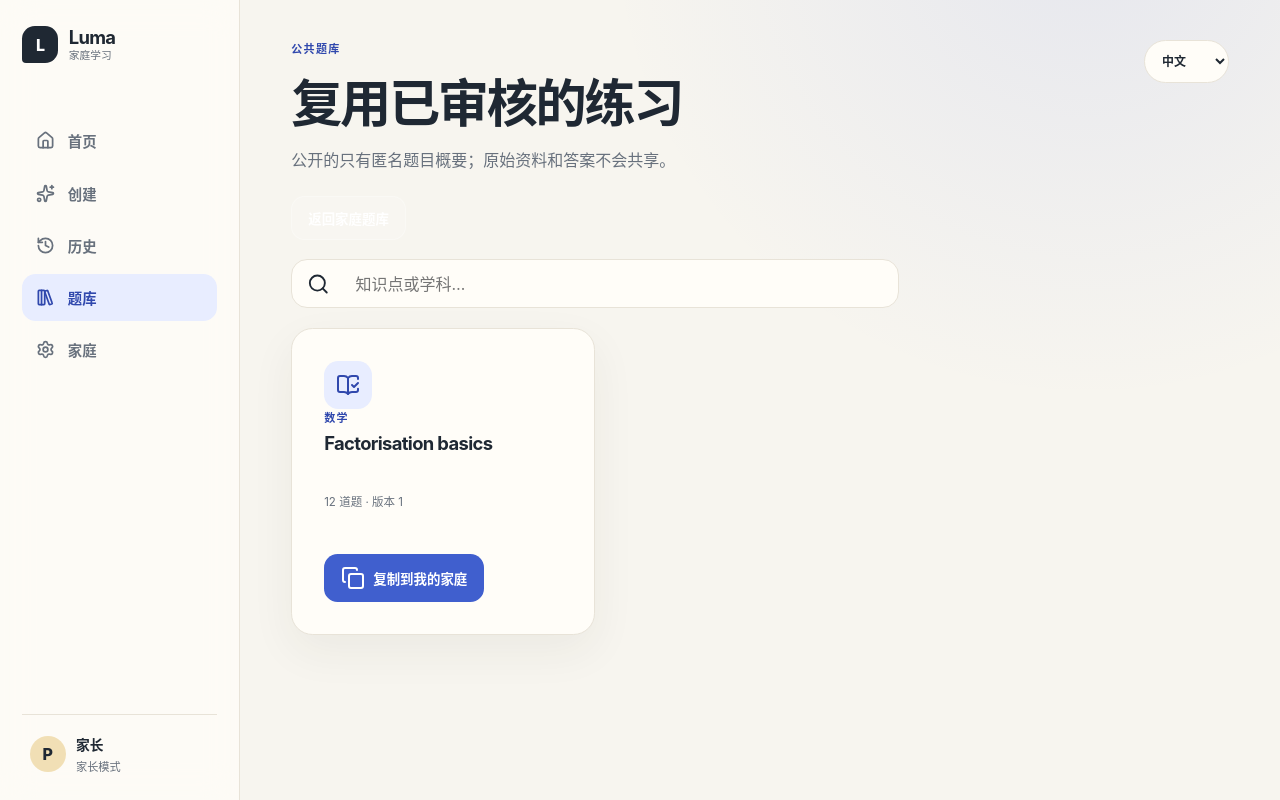
Test: PublicLibraryPage › shows only anonymous metadata and copies an item into the selected family
Check: the heading "Factorisation basics" is shown, box left=324, top=432, right=492, bottom=454
Check: the text "数学" is shown, box left=324, top=410, right=349, bottom=424
Click the button "复制到我的家庭": (404, 578) left=324, top=554, right=484, bottom=602
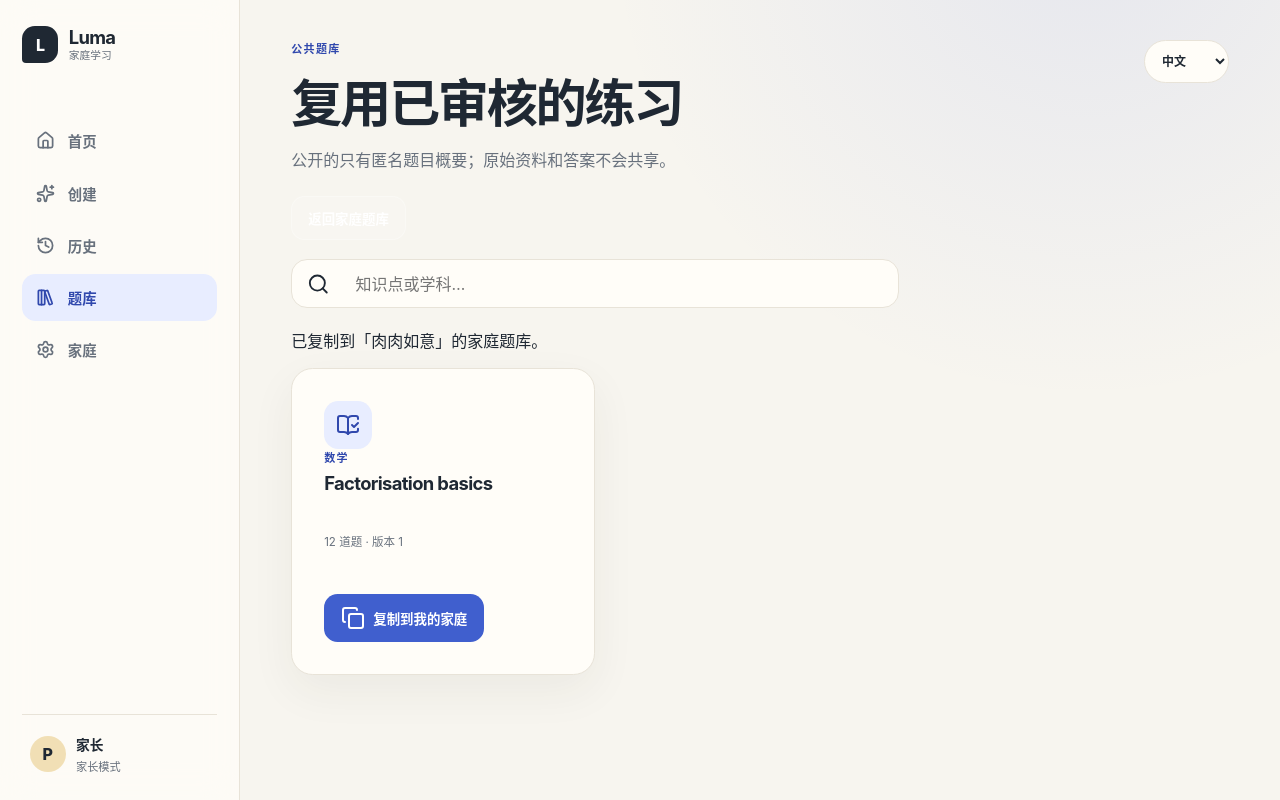
Check: the text "已复制到「肉肉如意」的家庭题库。" is shown, box left=291, top=330, right=547, bottom=350
